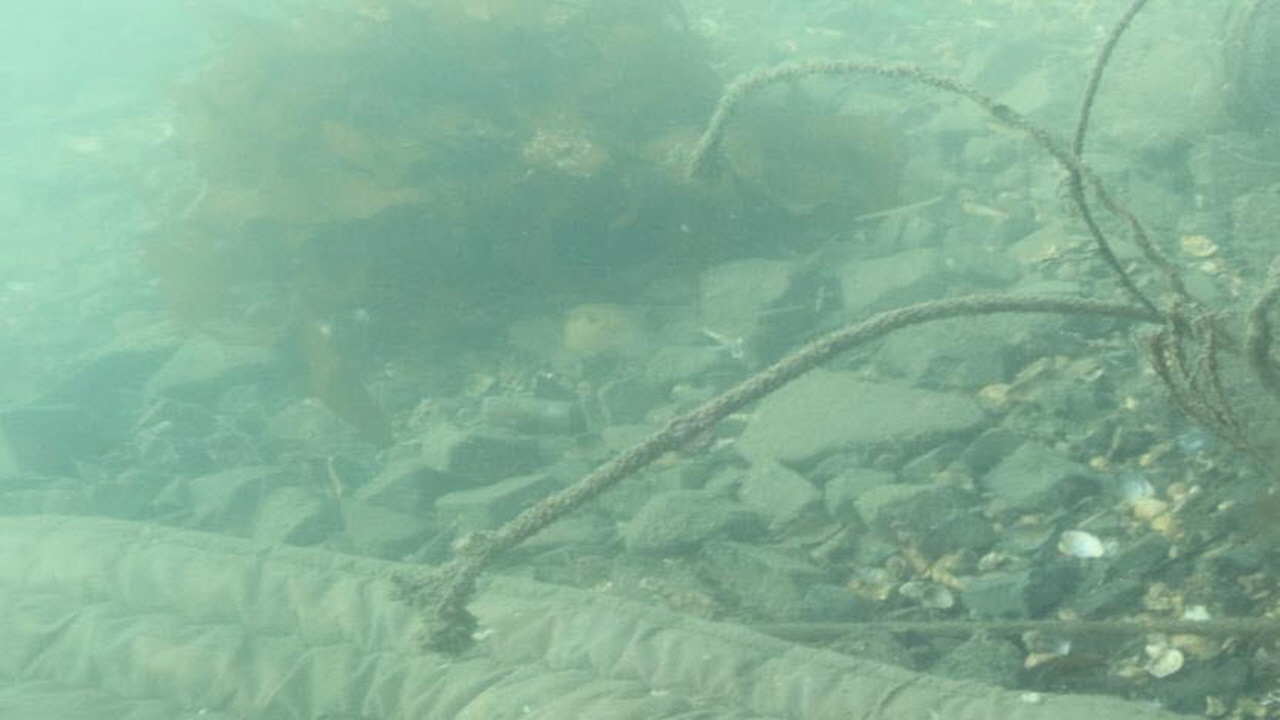rope: (498, 290, 1280, 550), (687, 58, 1188, 291), (1069, 0, 1166, 324)
